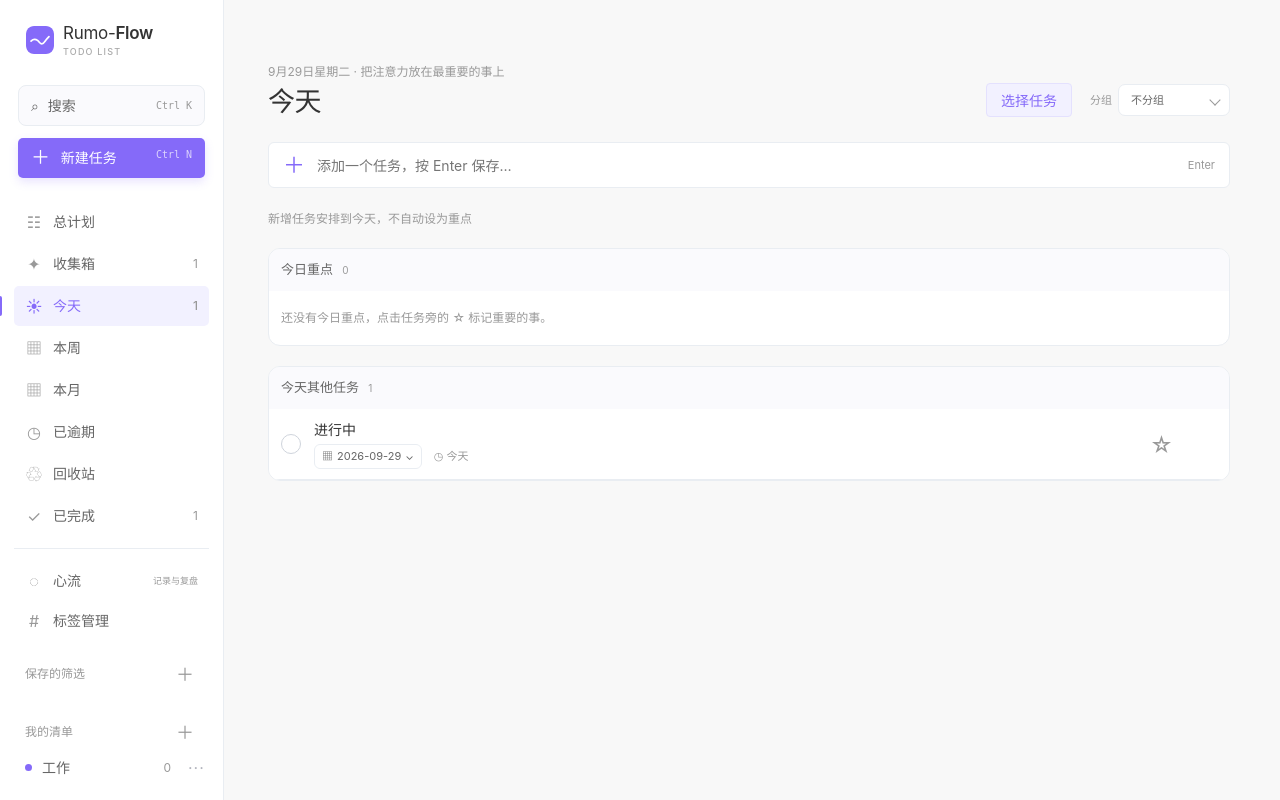
App critical interactions › shows the completed view only for completed tasks
The image size is (1280, 800).
Click the button with class "nav-item" showing "✓ 已完成 1": [112, 516] box [14,496,209,536]
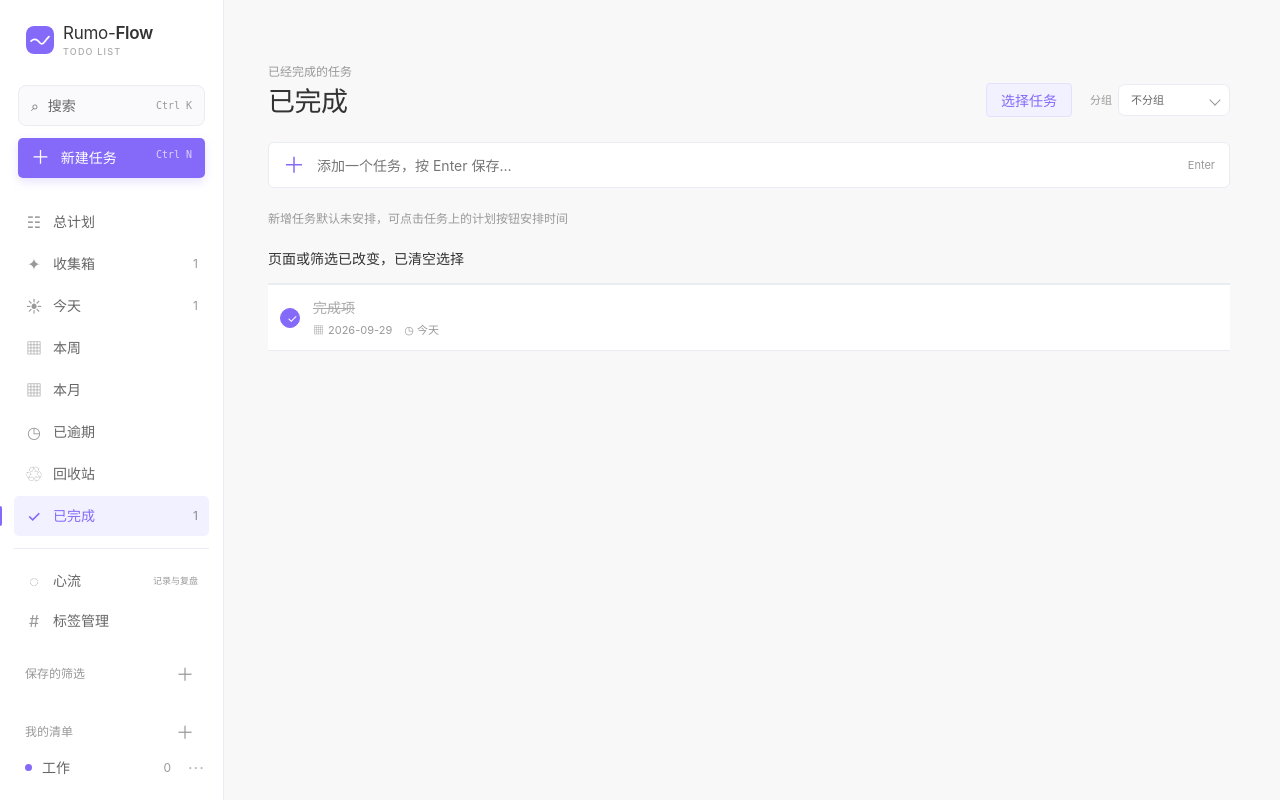
Now the text "完成项" is shown, box [313,297,355,318]
Now the text "进行中" is gone
